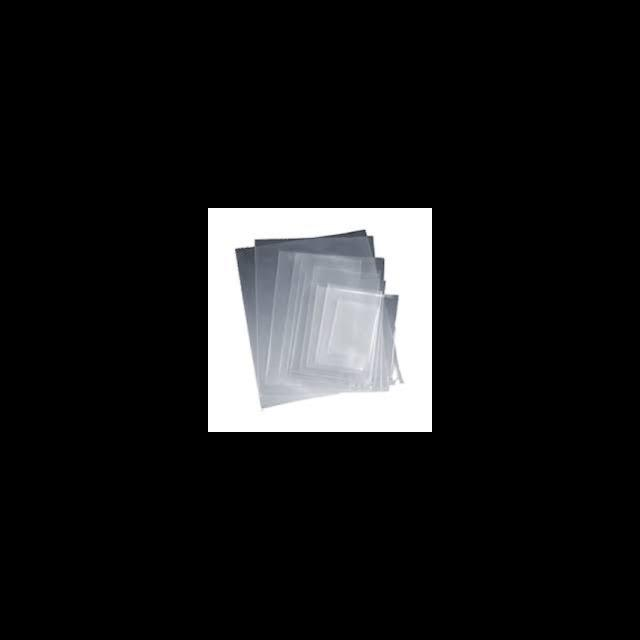plastic: (224, 231, 407, 406), (295, 252, 396, 401), (245, 259, 363, 381), (325, 285, 388, 388)
